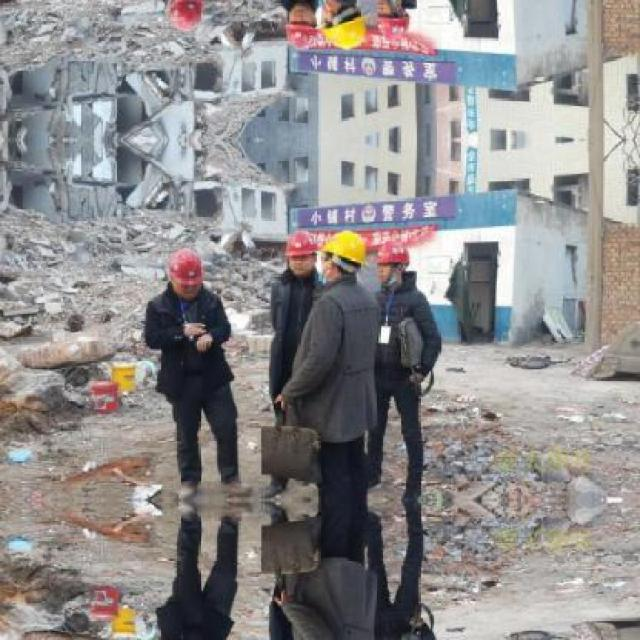helmet: (165, 237, 209, 285), (368, 229, 414, 271), (326, 223, 368, 263), (286, 222, 314, 256)
